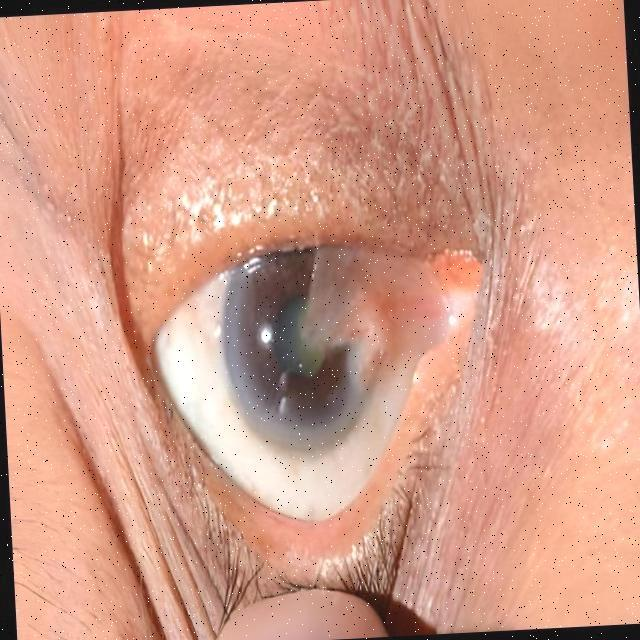Pterygium: (277, 231, 484, 425)
